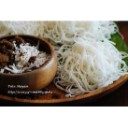idiyappam: (61, 37, 121, 87), (42, 20, 119, 42)
